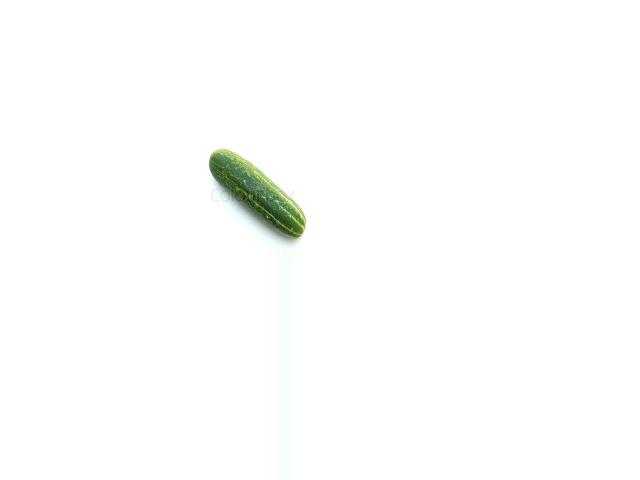cucumber: (209, 148, 307, 238)
